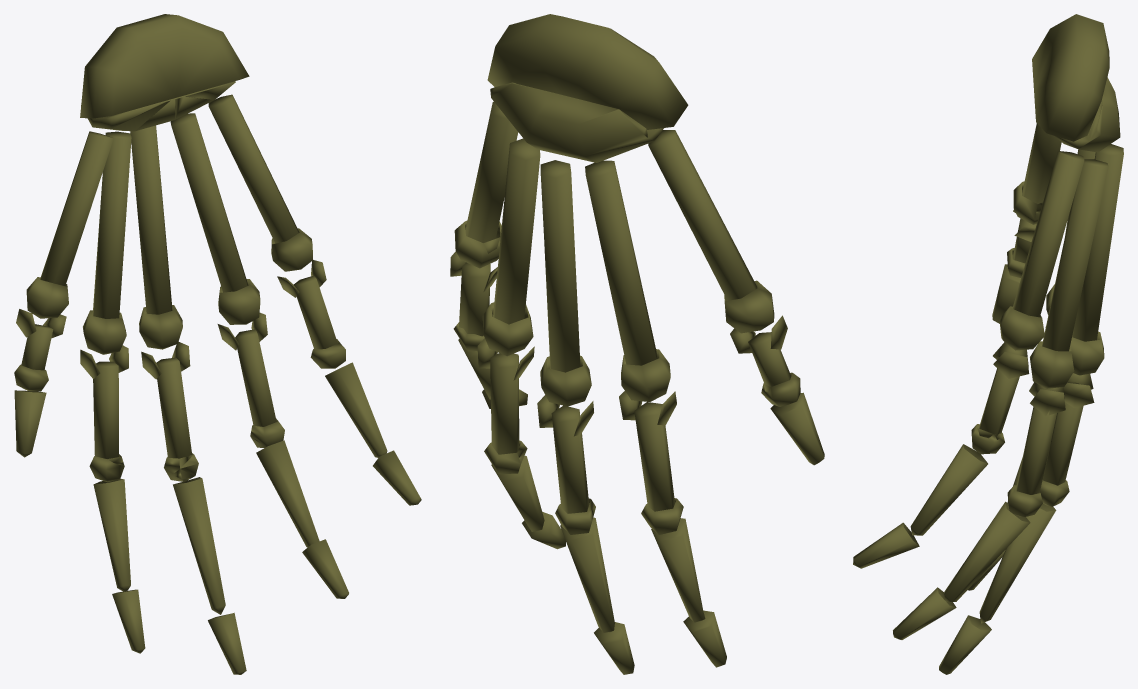
The model's file is main_right.obj.
The picture shows the model from 3 angles, left to right: view 1: azimuth 30°, elevation 25°; view 2: azimuth 150°, elevation 25°; view 3: azimuth 270°, elevation 25°; orthographic projection. The views are drawn at different scales.
Visible parts, largest first — view 1: RHAND01_RHAND01_WHITE_BONE; view 2: RHAND01_RHAND01_WHITE_BONE; view 3: RHAND01_RHAND01_WHITE_BONE.
Boxes of the visible parts, box(x1,y1,x2,y2) form: RHAND01_RHAND01_WHITE_BONE: box(14, 14, 421, 674); RHAND01_RHAND01_WHITE_BONE: box(450, 14, 824, 674); RHAND01_RHAND01_WHITE_BONE: box(853, 14, 1123, 674).
Bounding box in the file's own units: 4.54 × 7.88 × 3.04.
